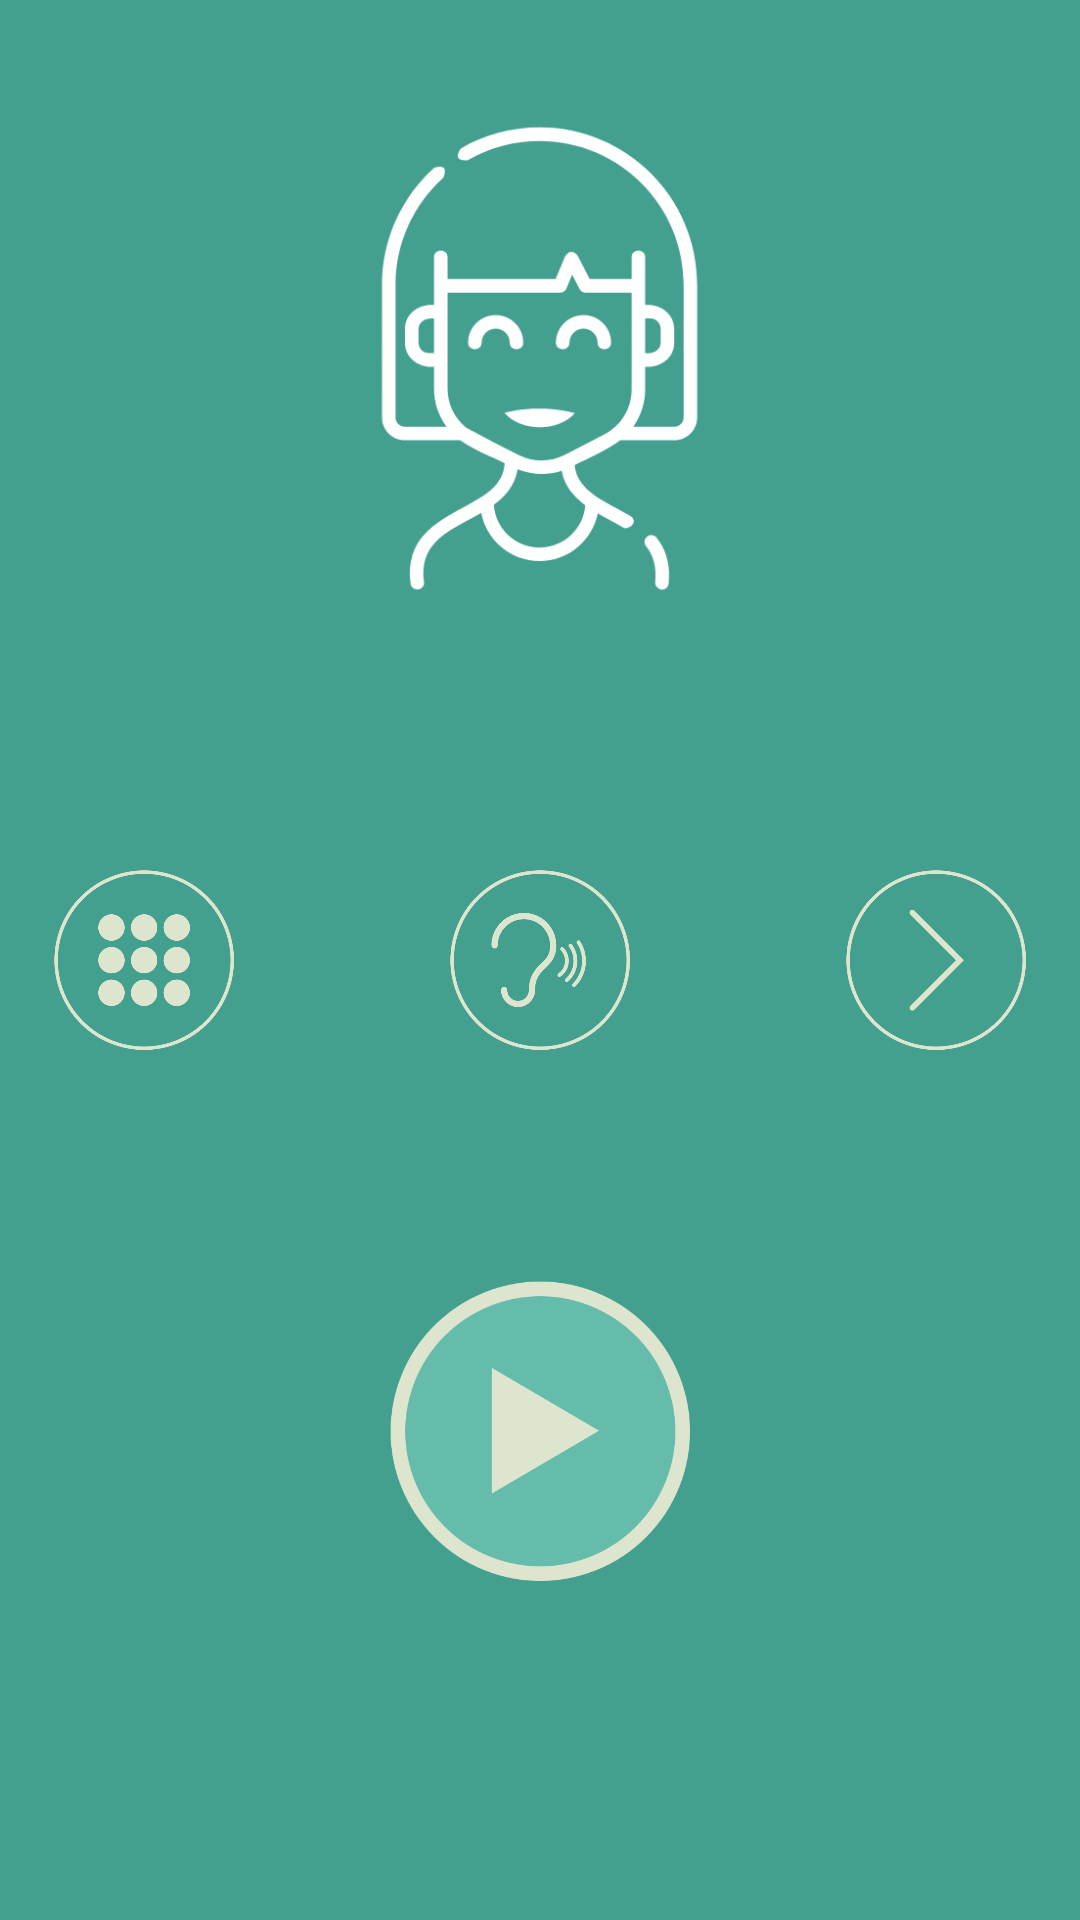

Where to tap for icons on this 1080*1920 app screen, as point (x, y):
dots: point (144, 960)
hear: point (540, 960)
next: point (936, 960)
play: point (540, 1431)
